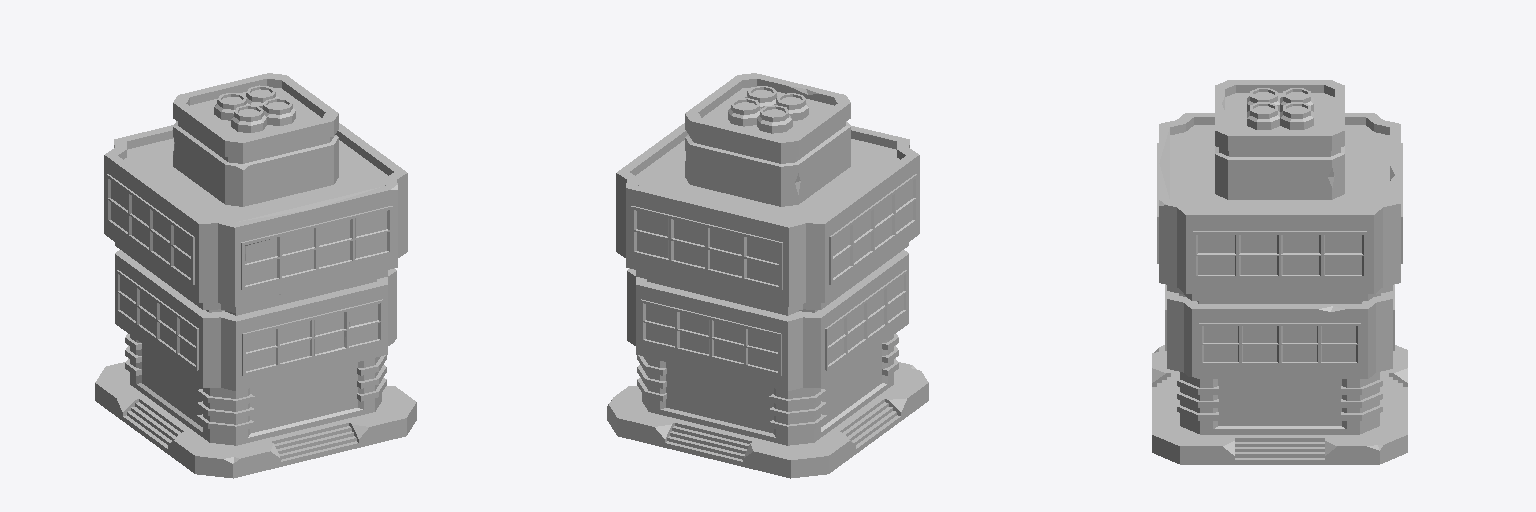
File: SciFi_Building_Large04.obj
3 renders of one model, left to right at view 1: azimuth 30°, elevation 25°; view 2: azimuth 150°, elevation 25°; view 3: azimuth 270°, elevation 25°, orthographic.
Visible parts, largest first — view 1: SM_Bld_Large_04; view 2: SM_Bld_Large_04; view 3: SM_Bld_Large_04.
Part boxes in pixels (x1,y1,x2,y2): SM_Bld_Large_04: (95,73,416,478); SM_Bld_Large_04: (607,73,928,478); SM_Bld_Large_04: (1152,80,1407,464).
Bounding box in the file's own units: 0.75 × 1 × 0.75.